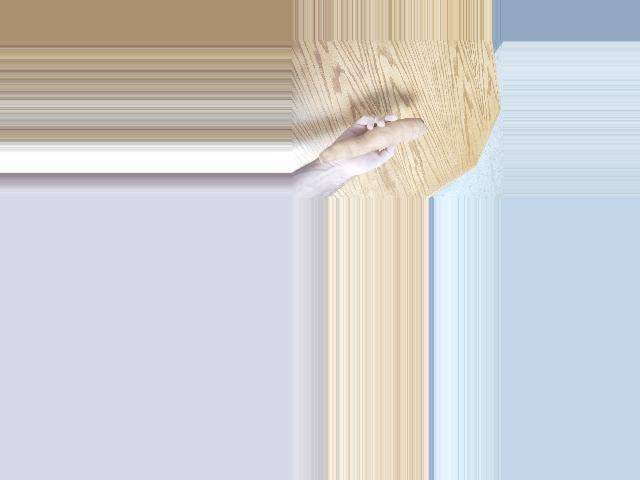sweet_potato: (331, 112, 442, 157)
